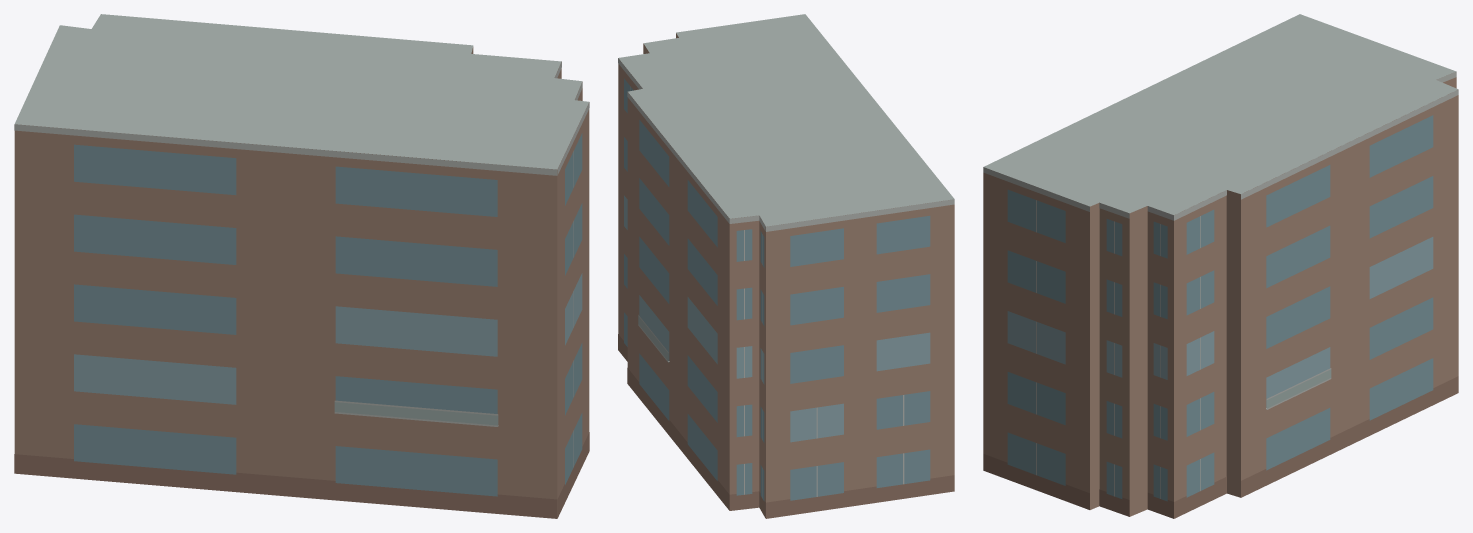
File: survey-upis-33012338.glb
3 views of the same model, side by side, from view 1: azimuth 30°, elevation 25°; view 2: azimuth 150°, elevation 25°; view 3: azimuth 270°, elevation 25° (orthographic). The views are drawn at different scales.
Parts seen in each view (by area): view 1: survey-upis-33012338.tmp; view 2: survey-upis-33012338.tmp; view 3: survey-upis-33012338.tmp.
Part boxes in pixels (left/top/right/bottom): survey-upis-33012338.tmp: left=14, top=14, right=589, bottom=518; survey-upis-33012338.tmp: left=618, top=14, right=954, bottom=518; survey-upis-33012338.tmp: left=983, top=14, right=1458, bottom=518.
Bounding box in the file's own units: 19.06 × 13.4 × 19.02.
